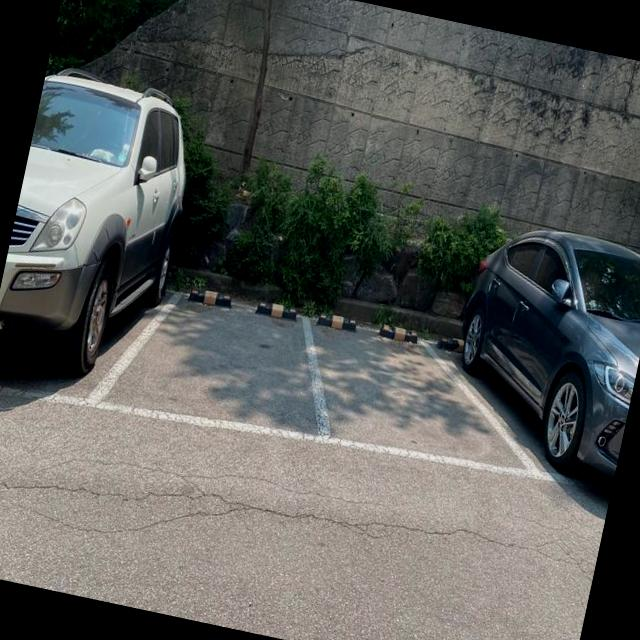free: (285, 284, 474, 493), (134, 262, 318, 460)
